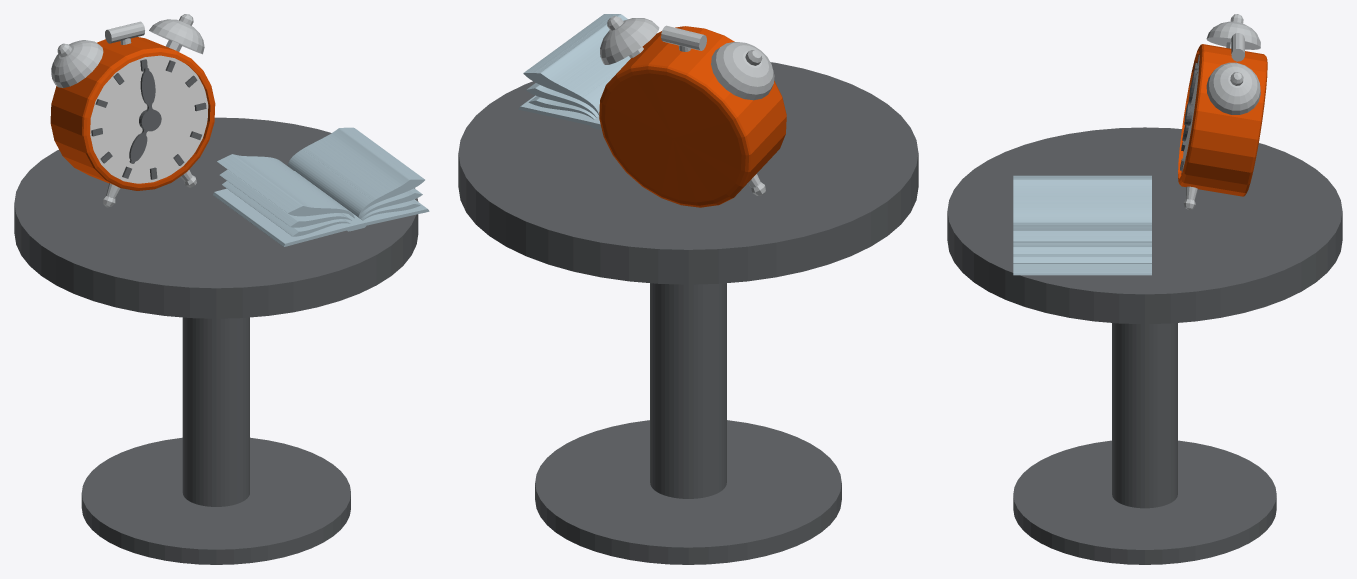
Rendered from Bed side table.glb.
The picture shows the model from 3 angles, left to right: view 1: azimuth 30°, elevation 25°; view 2: azimuth 150°, elevation 25°; view 3: azimuth 270°, elevation 25°; orthographic projection. The views are drawn at different scales.
Parts seen in each view (by area): view 1: Mesh_Mesh_head_geo.001_lambert2SG.001; view 2: Mesh_Mesh_head_geo.001_lambert2SG.001; view 3: Mesh_Mesh_head_geo.001_lambert2SG.001.
Boxes of the visible parts, <box> form: Mesh_Mesh_head_geo.001_lambert2SG.001: <box>14,14,429,564</box>; Mesh_Mesh_head_geo.001_lambert2SG.001: <box>458,14,918,564</box>; Mesh_Mesh_head_geo.001_lambert2SG.001: <box>947,14,1342,564</box>.
Size of the model in its own units: 0.012 by 0.015 by 0.012.
